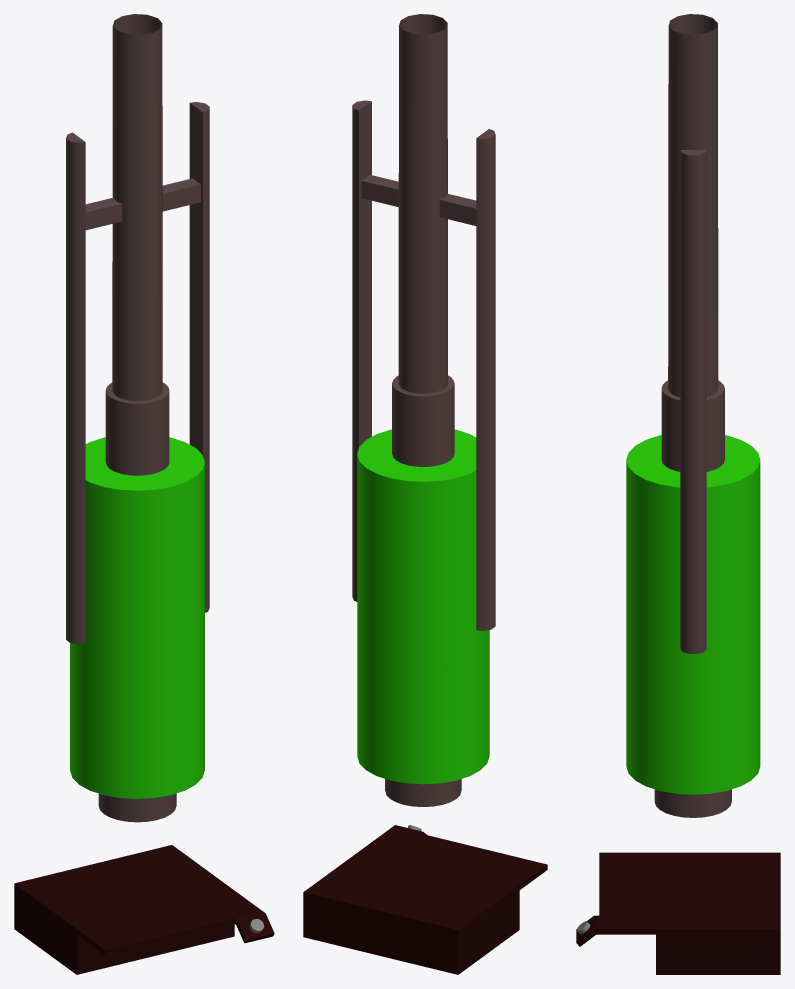
File: Press-Platform.fbx
The picture shows the model from 3 angles, left to right: view 1: azimuth 30°, elevation 25°; view 2: azimuth 150°, elevation 25°; view 3: azimuth 270°, elevation 25°; orthographic projection.
Parts seen in each view (by area): view 1: Press-Base, Press-MovingPart, Press-Dancing-Zone; view 2: Press-Base, Press-MovingPart, Press-Dancing-Zone; view 3: Press-MovingPart, Press-Base, Press-Dancing-Zone.
Boxes of the visible parts, bbox=[...] form: Press-Base: bbox=[66, 14, 209, 822]; Press-MovingPart: bbox=[70, 437, 204, 798]; Press-Dancing-Zone: bbox=[14, 845, 274, 974]; Press-Base: bbox=[352, 14, 495, 806]; Press-MovingPart: bbox=[357, 429, 489, 784]; Press-Dancing-Zone: bbox=[303, 825, 547, 974]; Press-MovingPart: bbox=[626, 435, 760, 794]; Press-Base: bbox=[654, 14, 731, 817]; Press-Dancing-Zone: bbox=[576, 852, 780, 974].
Size of the model in its own units: 4000 by 22211 by 4503.
